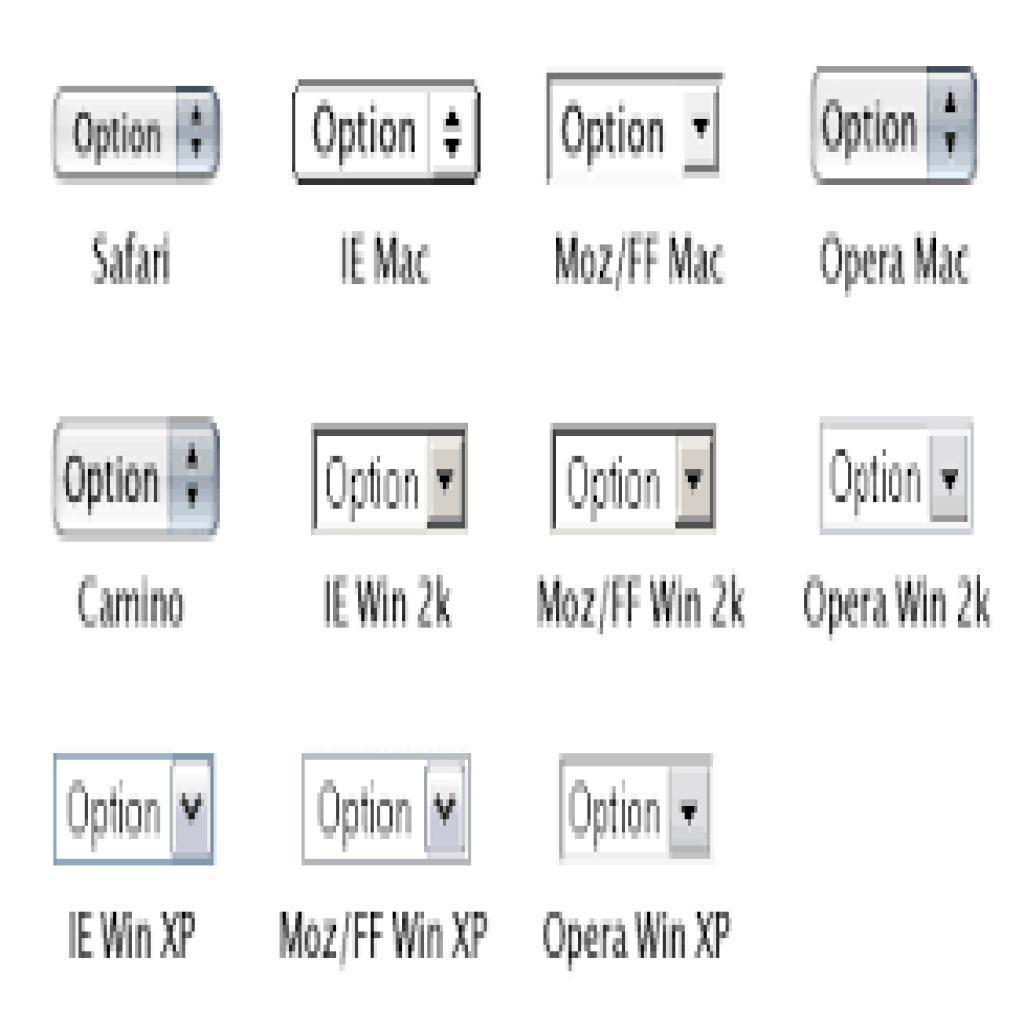dropdown: (52, 415, 221, 543), (293, 79, 482, 186), (549, 73, 722, 185), (302, 755, 472, 867), (815, 69, 976, 185), (54, 754, 215, 868), (554, 426, 721, 533), (313, 424, 467, 535), (561, 755, 714, 864), (823, 425, 977, 533), (56, 88, 220, 179)
